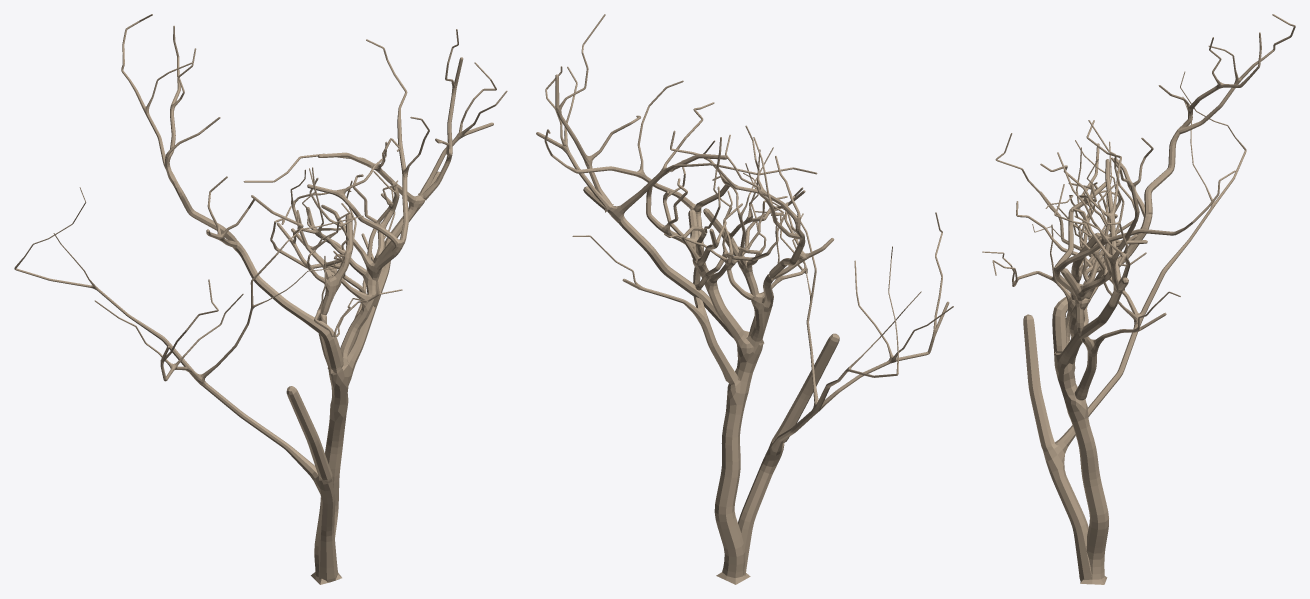
The picture shows the model from 3 angles, left to right: view 1: azimuth 30°, elevation 25°; view 2: azimuth 150°, elevation 25°; view 3: azimuth 270°, elevation 25°; orthographic projection. The views are drawn at different scales.
Size of the model in its own units: 2.76 by 3.28 by 1.78.
